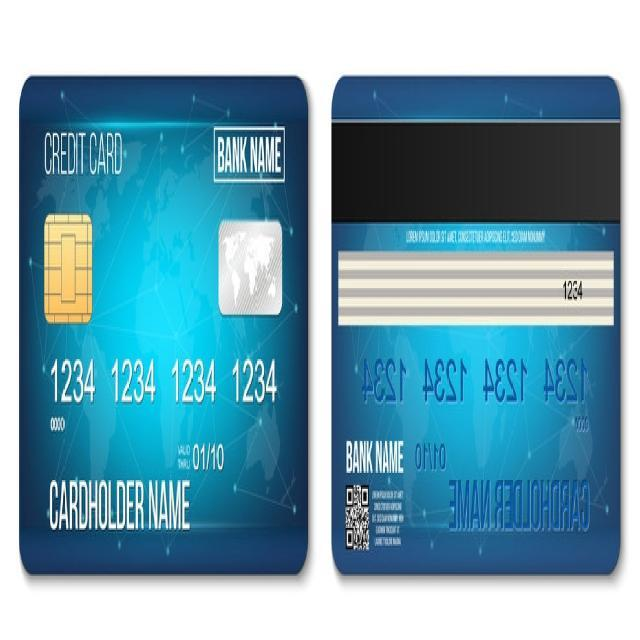payment_card: (17, 74, 309, 575), (330, 74, 622, 575)
